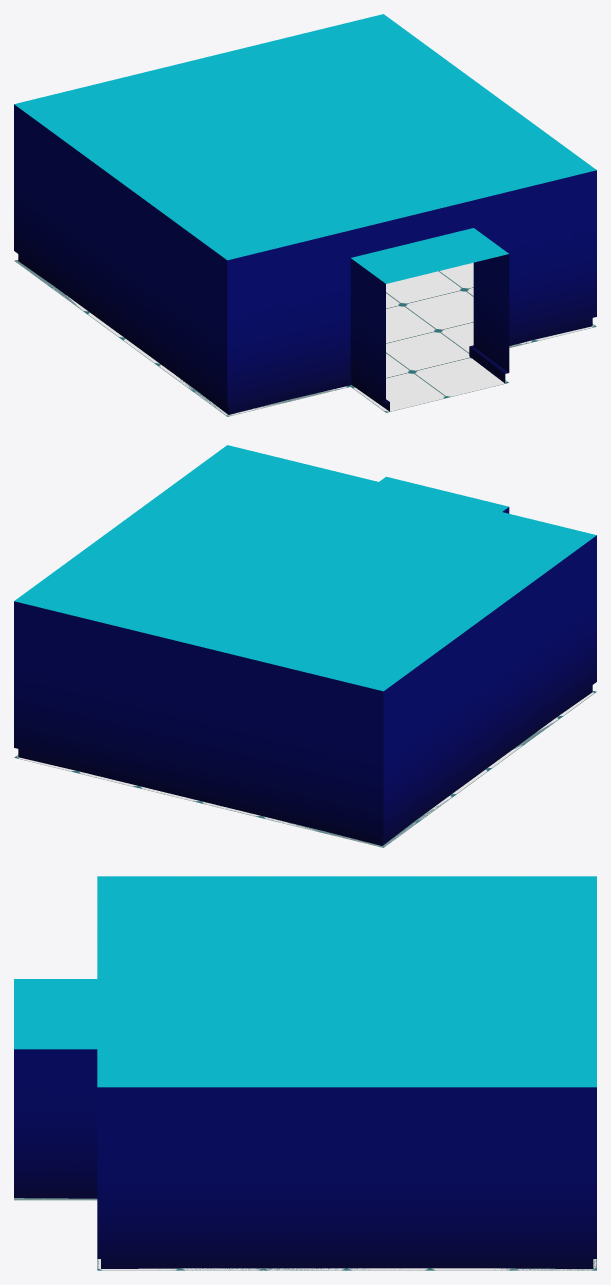
File: SalaGrande.fbx
The picture shows the model from 3 angles, top to bottom: view 1: azimuth 30°, elevation 25°; view 2: azimuth 150°, elevation 25°; view 3: azimuth 270°, elevation 25°; orthographic projection. The views are drawn at different scales.
Parts seen in each view (by area): view 1: SalaGrande; view 2: SalaGrande; view 3: SalaGrande.
Part boxes in pixels (x1,y1,x2,y2): SalaGrande: (14,14,596,416); SalaGrande: (14,445,596,847); SalaGrande: (14,876,596,1270).
Size of the model in its own units: 600 by 243 by 700.
1 material, 1 textured.
